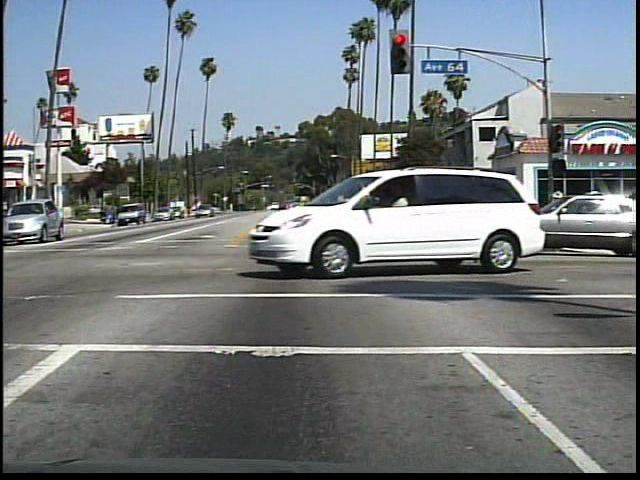person: (544, 187, 570, 237)
